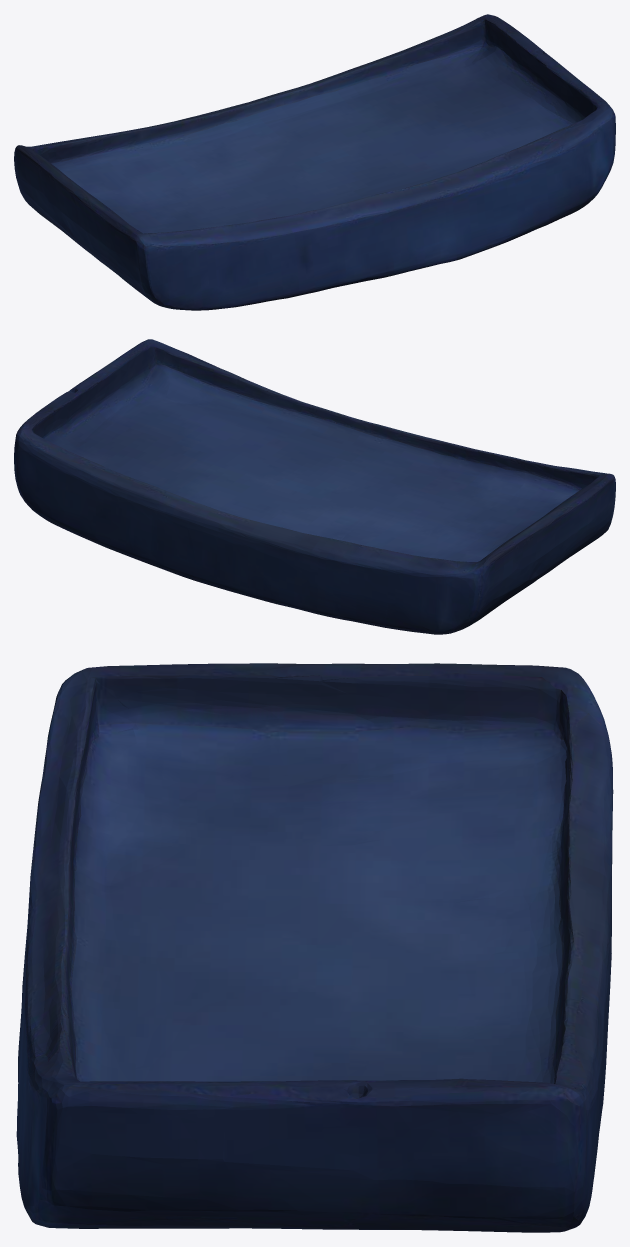
The model's file is blue_bowl_on_dresser_000.glb.
The picture shows the model from 3 angles, top to bottom: view 1: azimuth 30°, elevation 25°; view 2: azimuth 150°, elevation 25°; view 3: azimuth 270°, elevation 25°; orthographic projection. The views are drawn at different scales.
Visible parts, largest first — view 1: phase2_final_blue_bowl_on_dresser_000.obj; view 2: phase2_final_blue_bowl_on_dresser_000.obj; view 3: phase2_final_blue_bowl_on_dresser_000.obj.
Boxes of the visible parts, left/top/right/bottom form: phase2_final_blue_bowl_on_dresser_000.obj: left=14, top=14, right=615, bottom=310; phase2_final_blue_bowl_on_dresser_000.obj: left=14, top=339, right=615, bottom=634; phase2_final_blue_bowl_on_dresser_000.obj: left=16, top=663, right=613, bottom=1232.
Size of the model in its own units: 0.1991 by 0.0426 by 0.1066.
Materials: 1 (1 with a texture image).
